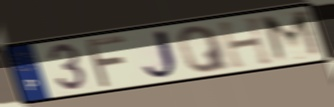3: (45, 41, 89, 94)
F: (83, 34, 129, 91)
H: (216, 15, 277, 71)
J: (141, 27, 184, 81)
M: (258, 8, 327, 65)
Q: (176, 24, 233, 75)
